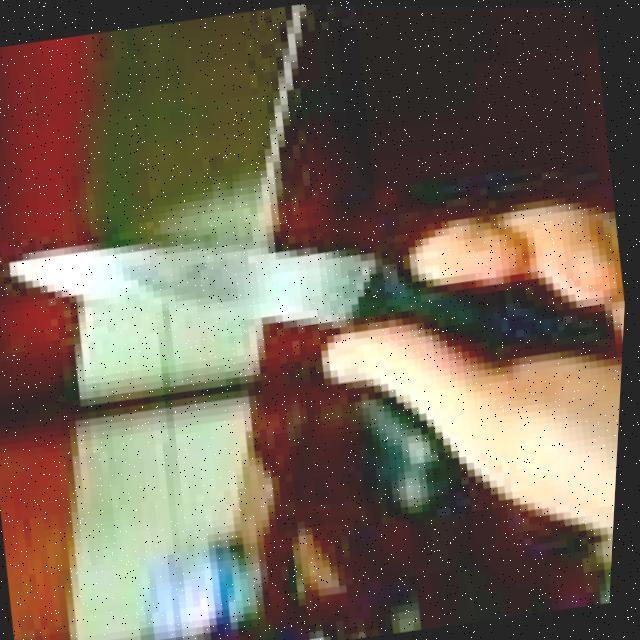knife: (4, 191, 435, 387)
